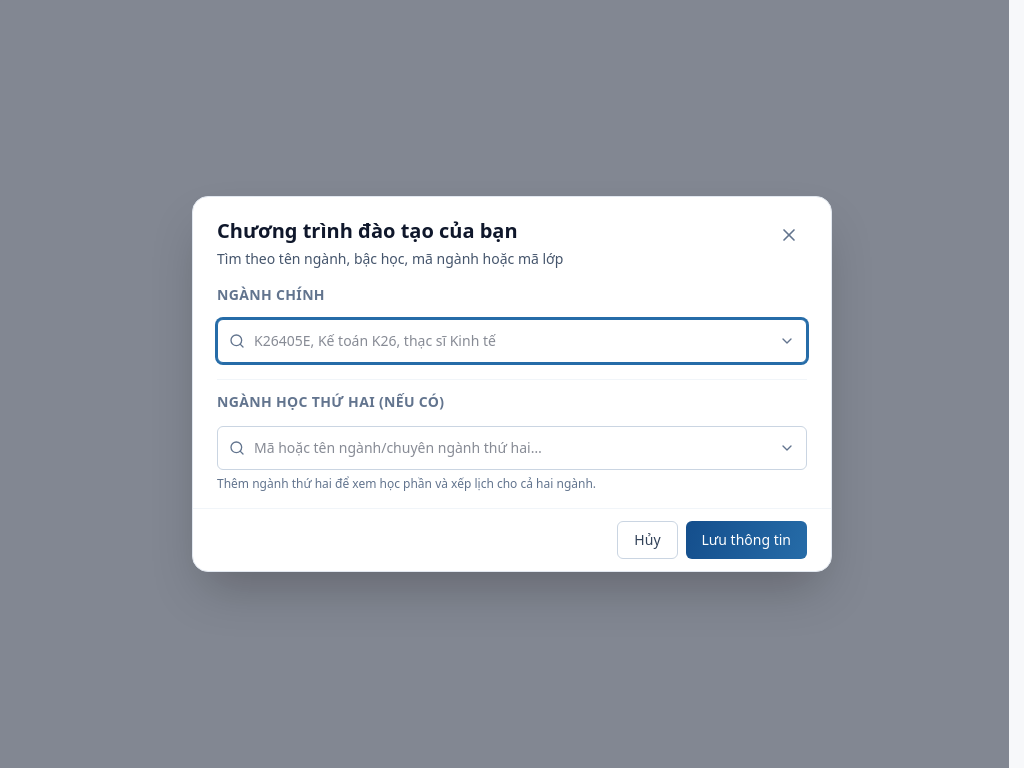
ProgramProfileDialog › groups name results by major, then lets the user select a cohort or look up a full code
The width and height of the screenshot is (1024, 768).
Type "ke toan" into the field labelled "Ngành chính" at (512, 341), box [217,319,807,363]
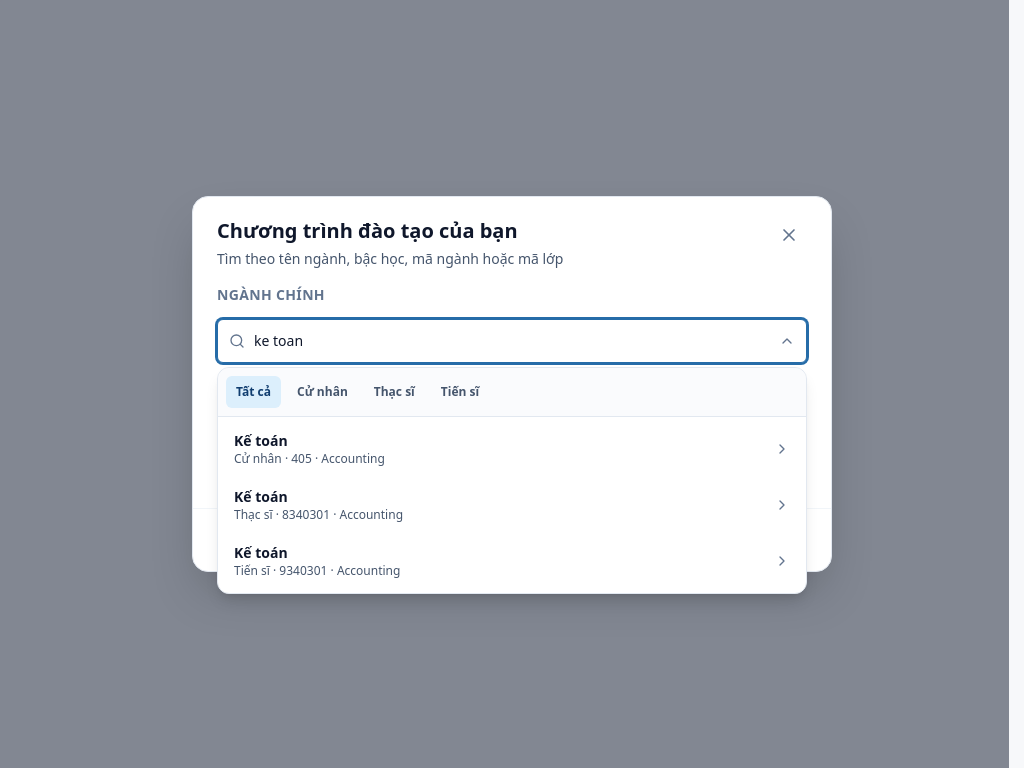
Check: the button "K26405" is not shown
Click the button with aria-label "Kế toán · Cử nhân · 405 · Accounting" at (261, 440), box [222,421,802,477]
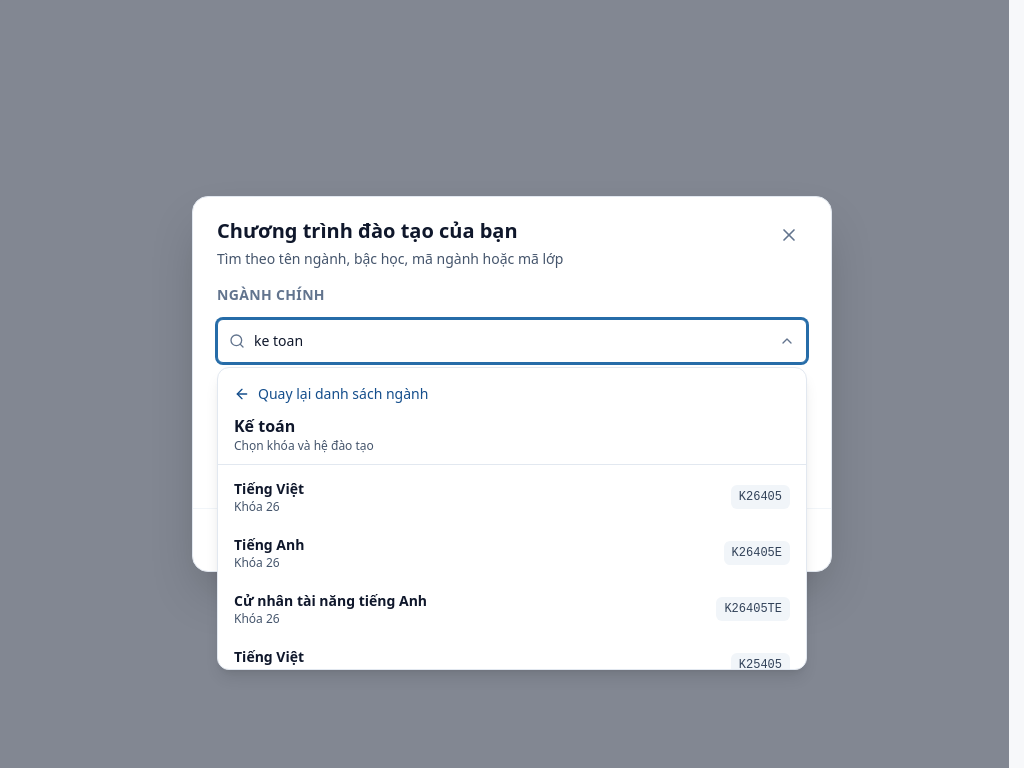
Click the button with aria-label "Tiếng Việt · Khóa 26 · K26405" at (269, 488), box [222,469,802,525]
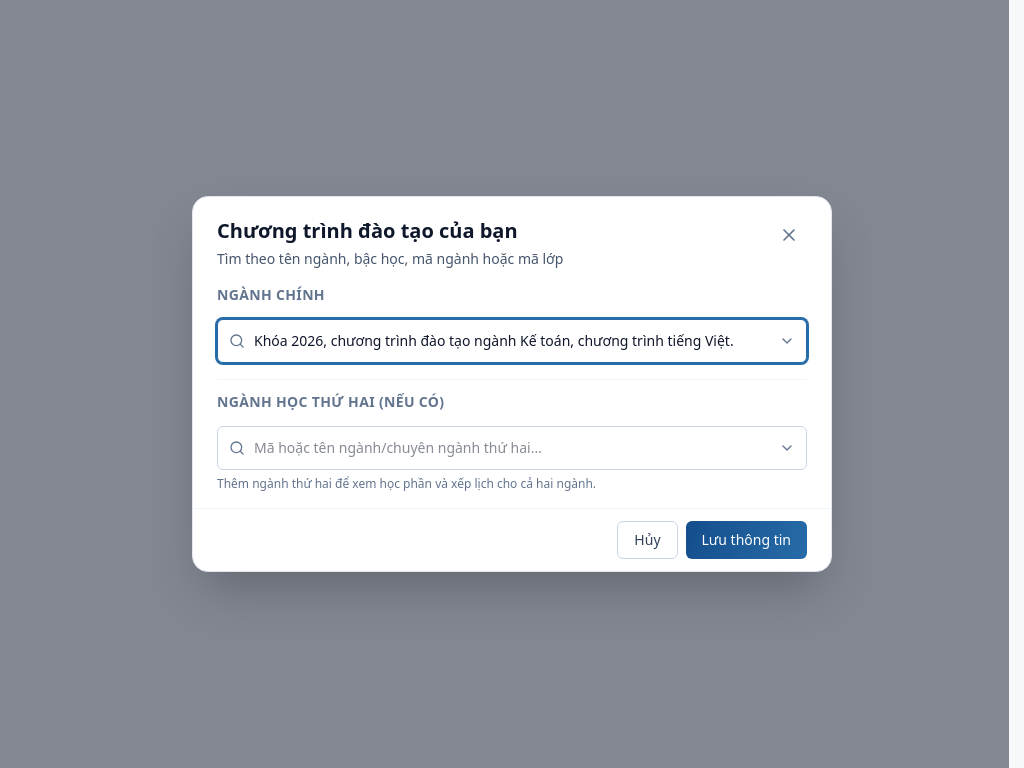
Check: the field labelled "Ngành chính" holds "Khóa 2026, chương trình đào tạo ngành Kế toán, chương trình tiếng Việt."
Replace the text in the field labelled "Ngành chính" with "K26405E" at (512, 341), box [217,319,807,363]
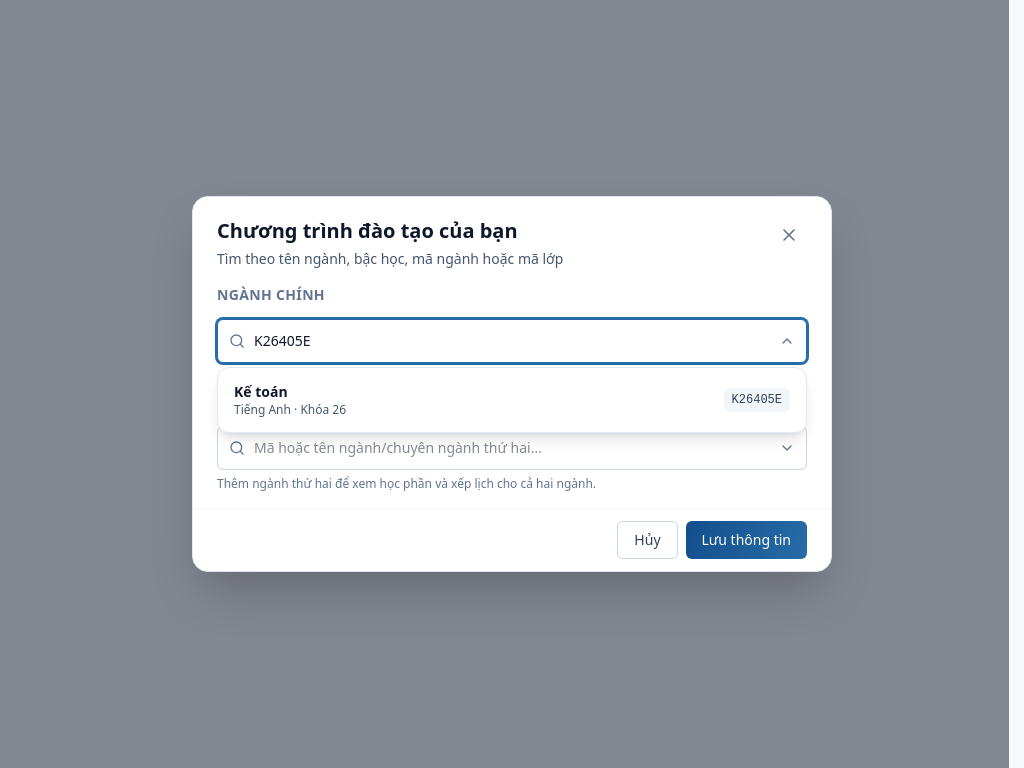
Check: the button with aria-label "Kế toán · Tiếng Anh · Khóa 26 · K26405E" is shown, box [222,372,802,428]
